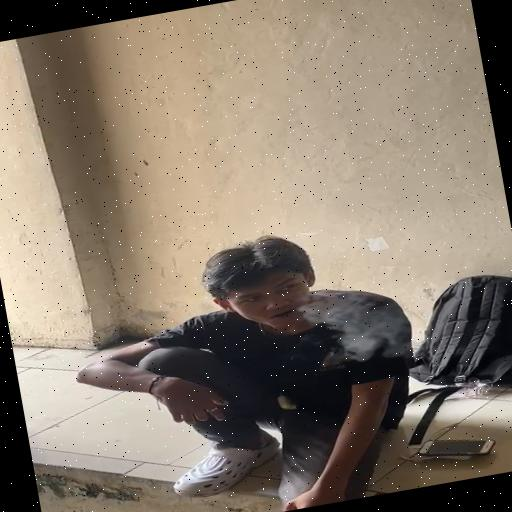asap rokok: (263, 257, 384, 364)
